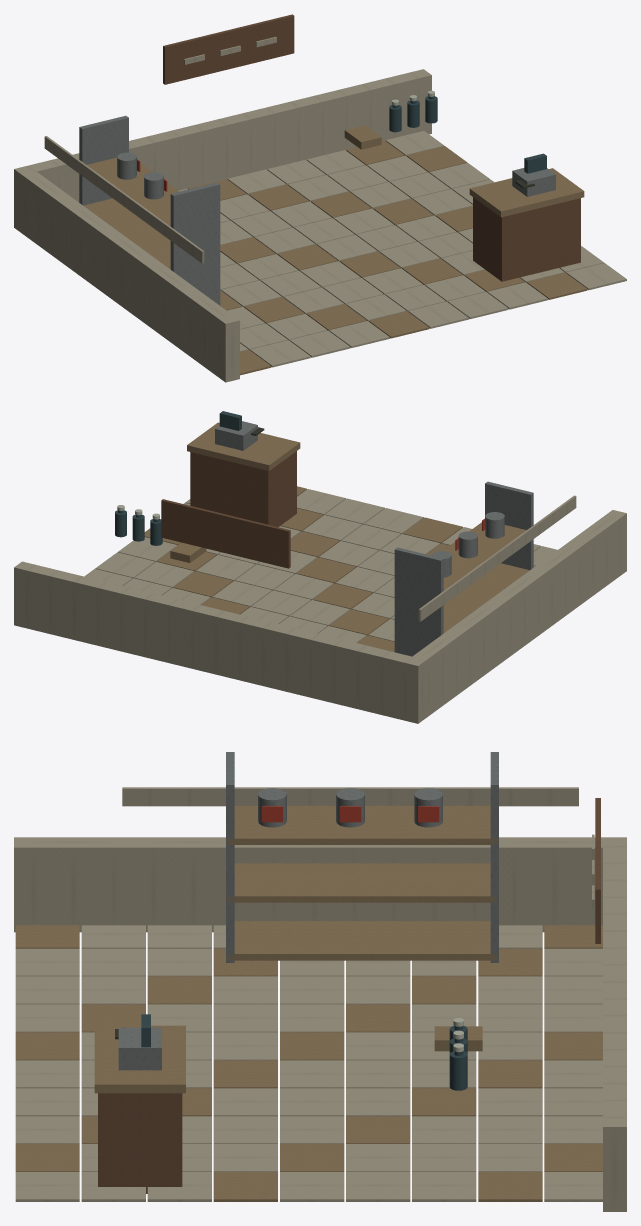
The model's file is shop_details.glb.
3 views of the same model, one above another, from view 1: azimuth 30°, elevation 25°; view 2: azimuth 150°, elevation 25°; view 3: azimuth 270°, elevation 25° (orthographic). The views are drawn at different scales.
Parts seen in each view (by area): view 1: DD_Cut_Back, DD_Cut_West, DD_Keep_Checkout, DD_Hide_BackSign, DD_Keep_RackUpright.001, DD_Keep_RackUpright, DD_Keep_CheckoutTop, DD_Hide_WestPriceRail, DD_Keep_RackShelf.001, DD_Keep_RackShelf.002, DD_Keep_ShopTile.009, DD_Keep_ShopTile.018 (+62 smaller); view 2: DD_Cut_Back, DD_Cut_West, DD_Keep_Checkout, DD_Hide_BackSign, DD_Keep_RackUpright, DD_Keep_CheckoutTop, DD_Hide_WestPriceRail, DD_Keep_RackUpright.001, DD_Keep_RackShelf.001, DD_Keep_RackShelf.002, DD_Keep_ShopTile.055, DD_Keep_ShopTile.058 (+37 smaller); view 3: DD_Cut_West, DD_Keep_RackShelf, DD_Keep_RackShelf.001, DD_Cut_Back, DD_Keep_RackShelf.002, DD_Keep_Checkout, DD_Hide_WestPriceRail, DD_Keep_CheckoutTop, DD_Keep_ShopTile.081, DD_Keep_ShopTile.084, DD_Keep_ShopTile.085, DD_Keep_ShopTile.086 (+86 smaller).
Boxes of the visible parts, <box> form: DD_Cut_Back: <box>14,69,431,230</box>; DD_Cut_West: <box>18,171,239,382</box>; DD_Keep_Checkout: <box>473,197,580,281</box>; DD_Hide_BackSign: <box>163,14,294,84</box>; DD_Keep_RackUpright.001: <box>170,182,220,305</box>; DD_Keep_RackUpright: <box>79,115,128,205</box>; DD_Keep_CheckoutTop: <box>469,168,584,217</box>; DD_Hide_WestPriceRail: <box>44,136,204,263</box>; DD_Keep_RackShelf.001: <box>83,198,170,269</box>; DD_Keep_RackShelf.002: <box>87,157,178,226</box>; DD_Keep_ShopTile.009: <box>250,340,310,367</box>; DD_Keep_ShopTile.018: <box>289,330,350,357</box>; DD_Cut_Back: <box>14,561,426,723</box>; DD_Cut_West: <box>408,510,626,719</box>; DD_Keep_Checkout: <box>190,451,296,527</box>; DD_Hide_BackSign: <box>161,499,290,568</box>; DD_Keep_RackUpright: <box>394,547,443,656</box>; DD_Keep_CheckoutTop: <box>187,422,300,470</box>; DD_Hide_WestPriceRail: <box>418,495,576,621</box>; DD_Keep_RackUpright.001: <box>485,481,533,570</box>; DD_Keep_RackShelf.001: <box>443,563,529,632</box>; DD_Keep_RackShelf.002: <box>443,522,526,590</box>; DD_Keep_ShopTile.055: <box>302,515,362,541</box>; DD_Keep_ShopTile.058: <box>235,564,294,590</box>; DD_Cut_West: <box>14,837,614,932</box>; DD_Keep_RackShelf: <box>227,921,497,960</box>; DD_Keep_RackShelf.001: <box>227,863,497,902</box>; DD_Cut_Back: <box>603,837,626,1211</box>; DD_Keep_RackShelf.002: <box>227,805,497,844</box>; DD_Keep_Checkout: <box>98,1093,182,1193</box>; DD_Hide_WestPriceRail: <box>122,787,578,806</box>; DD_Keep_CheckoutTop: <box>94,1025,185,1093</box>; DD_Keep_ShopTile.081: <box>15,1172,79,1201</box>; DD_Keep_ShopTile.084: <box>213,1172,277,1201</box>; DD_Keep_ShopTile.085: <box>280,1172,344,1201</box>; DD_Keep_ShopTile.086: <box>346,1172,410,1201</box>.
Size of the model in its own units: 5.7 by 2.05 by 5.1.
Materials: 9 (6 with a texture image).
